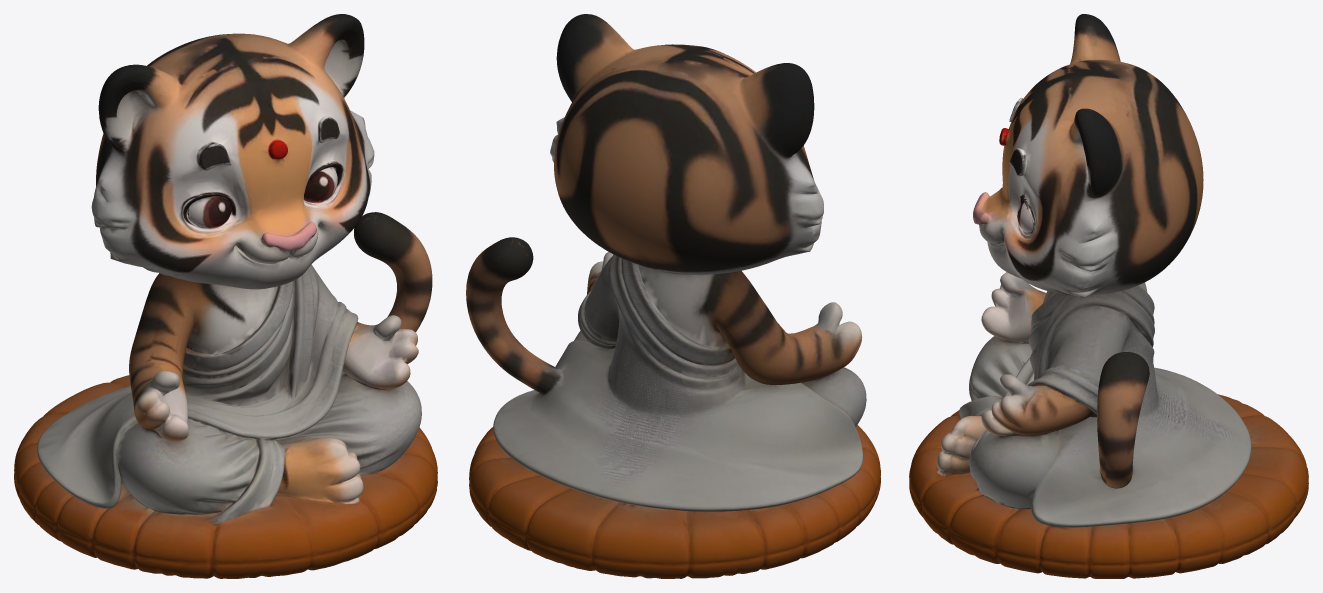
Rendered from tiger-meditate-closed.webp-292k.glb.
The picture shows the model from 3 angles, left to right: view 1: azimuth 30°, elevation 25°; view 2: azimuth 150°, elevation 25°; view 3: azimuth 270°, elevation 25°; orthographic projection. The views are drawn at different scales.
Parts seen in each view (by area): view 1: node_0; view 2: node_0; view 3: node_0.
Part boxes in pixels (x1,y1,x2,y2): node_0: (14,14,437,578); node_0: (466,14,880,578); node_0: (909,14,1308,578).
Size of the model in its own units: 0.8109 by 0.9231 by 0.7662.
1 material, 1 textured.
